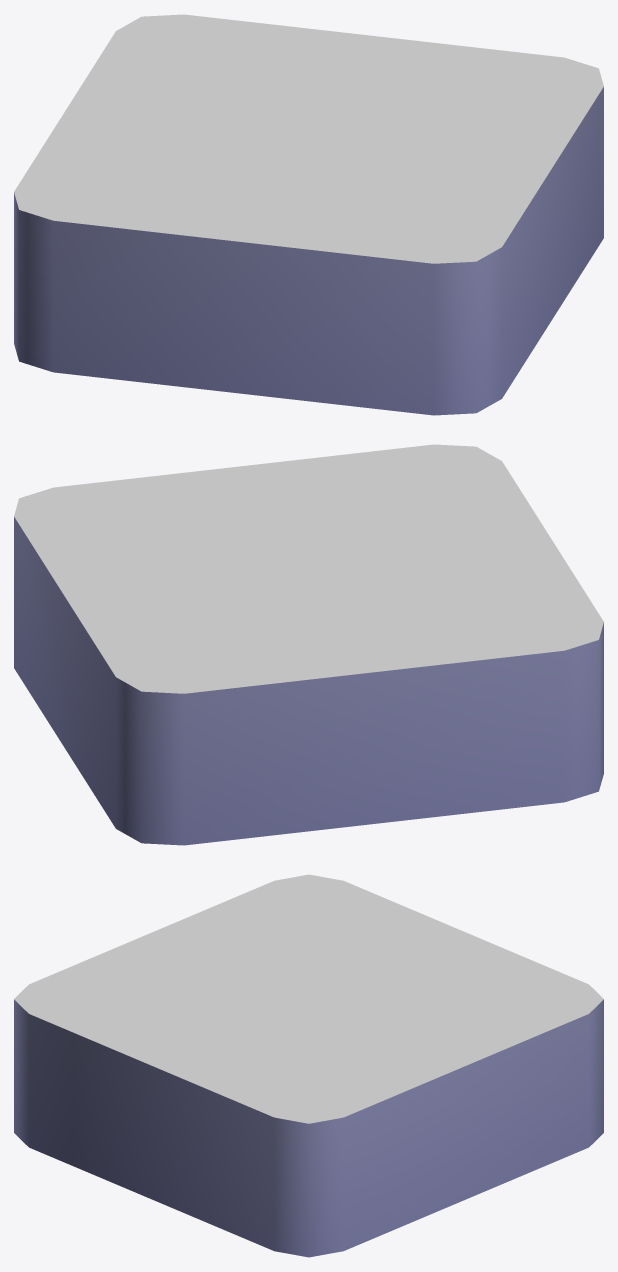
Rendered from shape-diamond (%thumbnail).glb.
3 renders of one model, top to bottom at view 1: azimuth 30°, elevation 25°; view 2: azimuth 150°, elevation 25°; view 3: azimuth 270°, elevation 25°, orthographic. The views are drawn at different scales.
Visible parts, largest first — view 1: shape-diamond (%thumbnail); view 2: shape-diamond (%thumbnail); view 3: shape-diamond (%thumbnail).
Boxes of the visible parts, x1,y1,x2,y2 form: shape-diamond (%thumbnail): (14,14,603,415); shape-diamond (%thumbnail): (14,444,603,845); shape-diamond (%thumbnail): (14,874,603,1257).
Size of the model in its own units: 0.25 by 0.0625 by 0.25.
